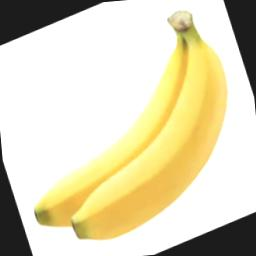Banana Ripe: (6, 15, 254, 246)
